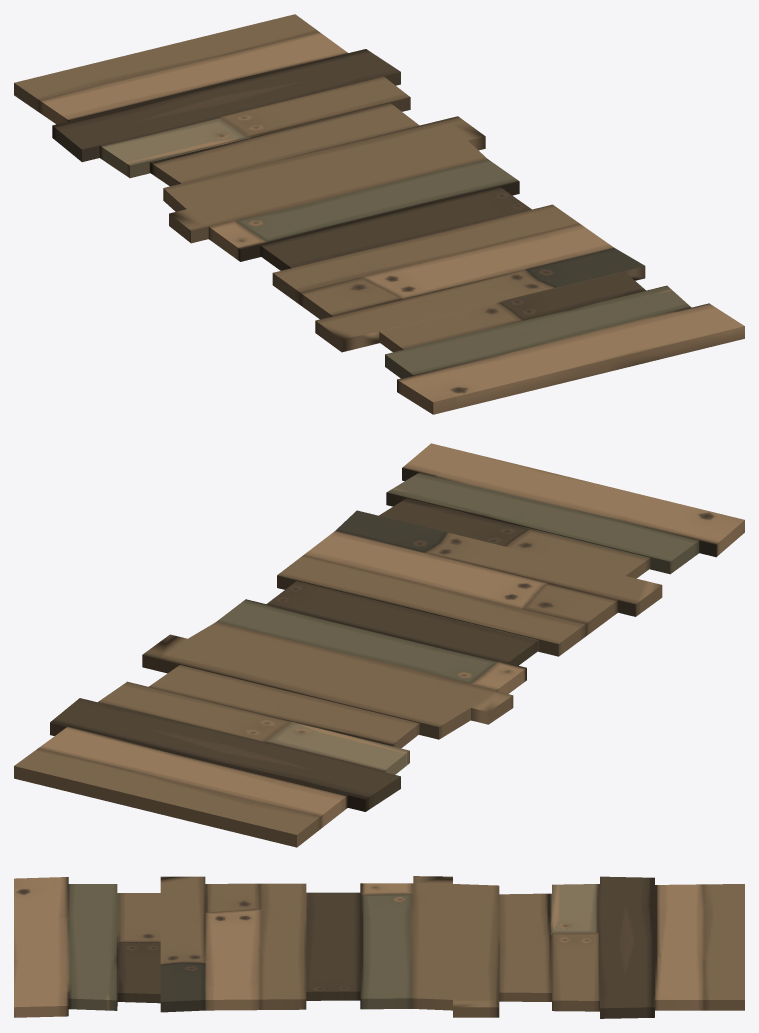
The model's file is SM_Bld_Dock_Long_02.fbx.
3 views of the same model, one above another, from view 1: azimuth 30°, elevation 25°; view 2: azimuth 150°, elevation 25°; view 3: azimuth 270°, elevation 25° (orthographic). The views are drawn at different scales.
Visible parts, largest first — view 1: SM_Bld_Dock_Long_02; view 2: SM_Bld_Dock_Long_02; view 3: SM_Bld_Dock_Long_02.
Boxes of the visible parts, x1,y1,x2,y2 form: SM_Bld_Dock_Long_02: (14,14,744,414); SM_Bld_Dock_Long_02: (14,443,744,847); SM_Bld_Dock_Long_02: (14,876,744,1018).
Size of the model in its own units: 267 by 9.97 by 624.
1 material, 1 textured.
